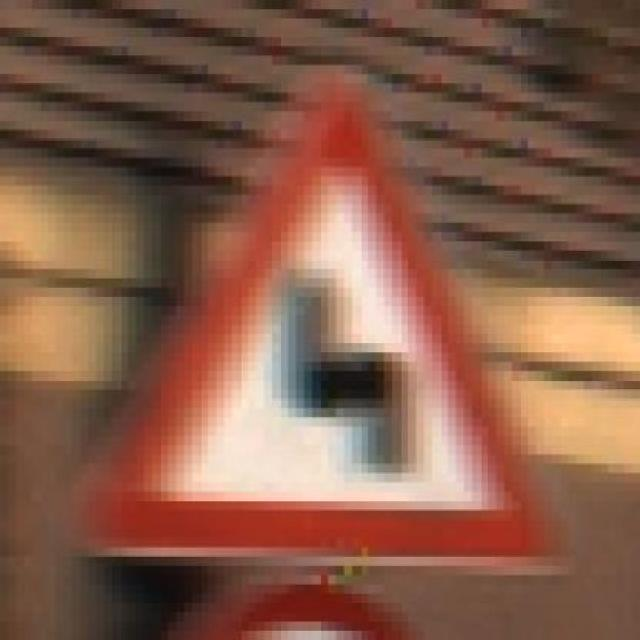Left Zig Zag Traffic: (72, 74, 560, 566)
